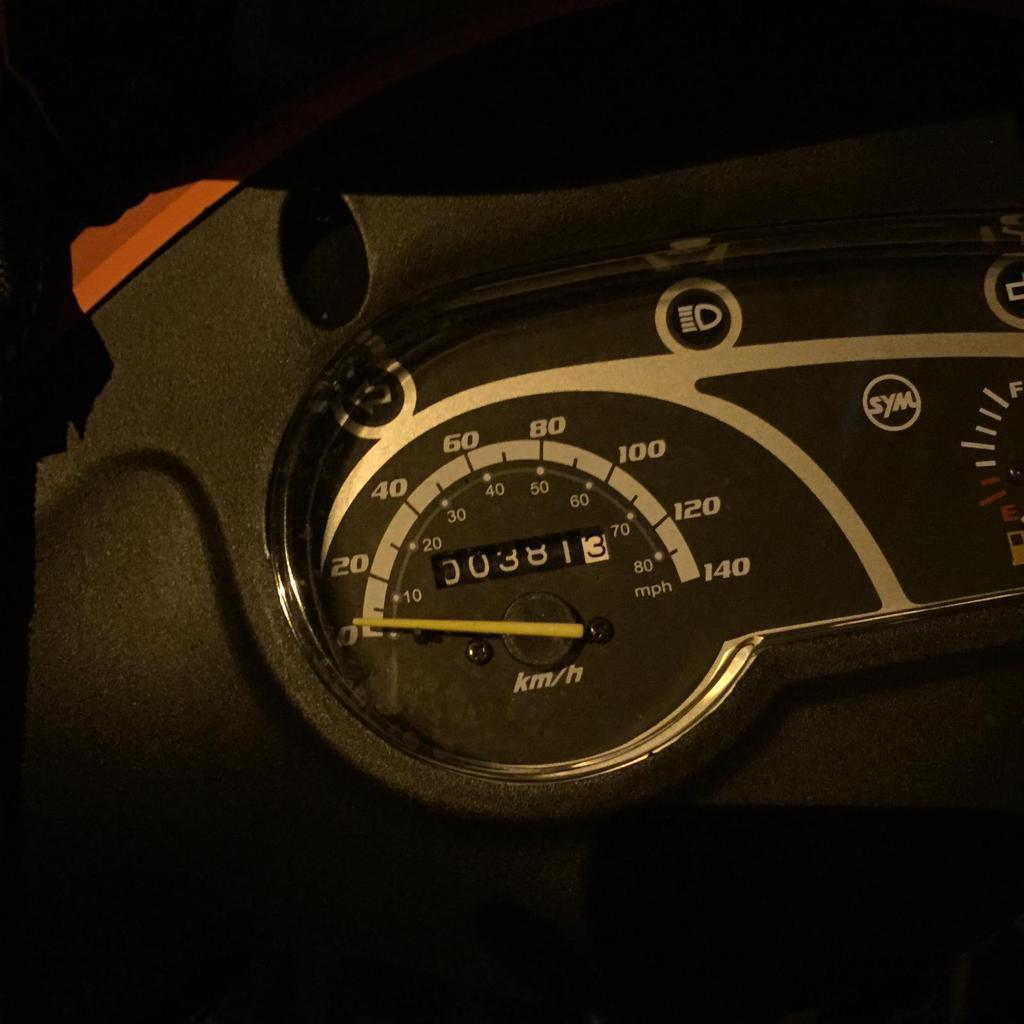0: (467, 551, 489, 579), (440, 558, 460, 586), (432, 536, 443, 551)
1: (561, 539, 571, 563)
3: (495, 543, 519, 572), (585, 532, 605, 558)
8: (524, 538, 548, 566)
odometer: (431, 529, 614, 588)
